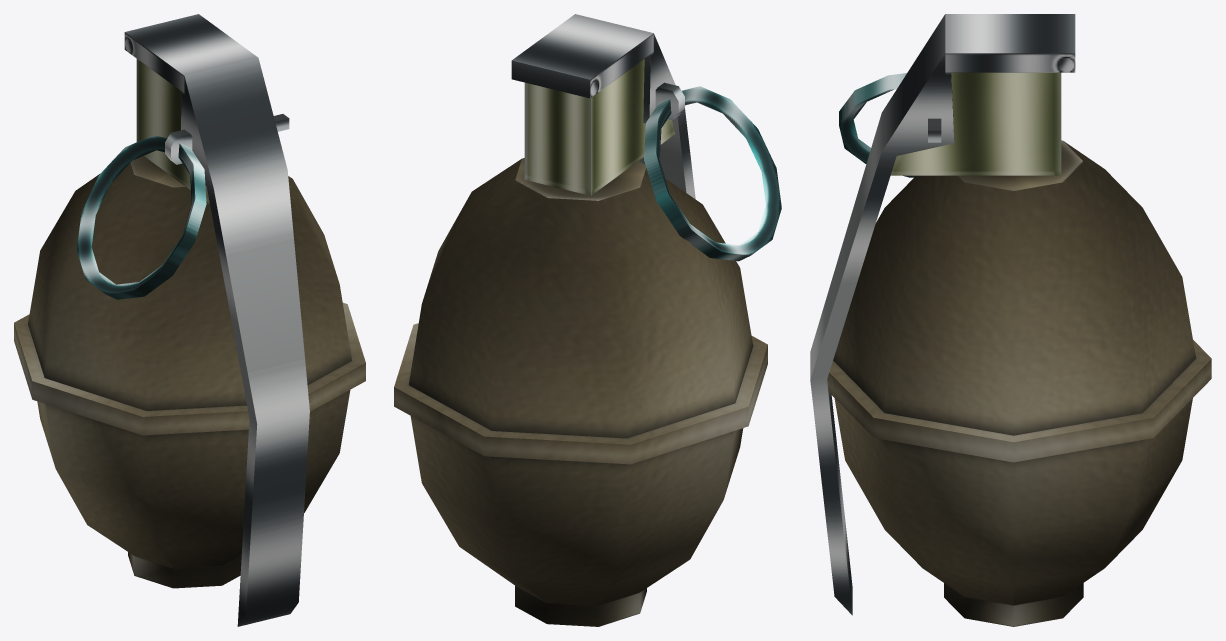
3 renders of one model, left to right at view 1: azimuth 30°, elevation 25°; view 2: azimuth 150°, elevation 25°; view 3: azimuth 270°, elevation 25°, orthographic. The views are drawn at different scales.
Parts seen in each view (by area): view 1: mqo_mesh; view 2: mqo_mesh; view 3: mqo_mesh.
Part boxes in pixels (x1,y1,x2,y2): mqo_mesh: (14,14,365,626); mqo_mesh: (394,14,781,626); mqo_mesh: (810,14,1211,626).
Bounding box in the file's own units: 217 × 344 × 220.
